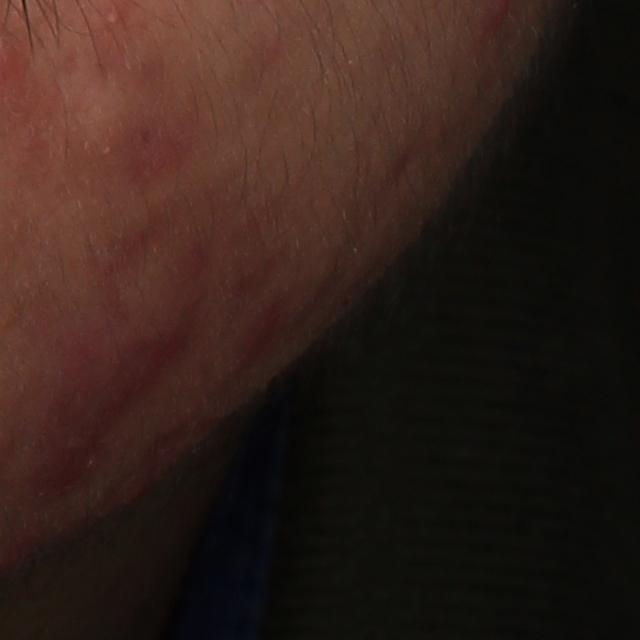hypertrophic_scar: (65, 69, 142, 157)
nodule: (16, 279, 206, 511)
